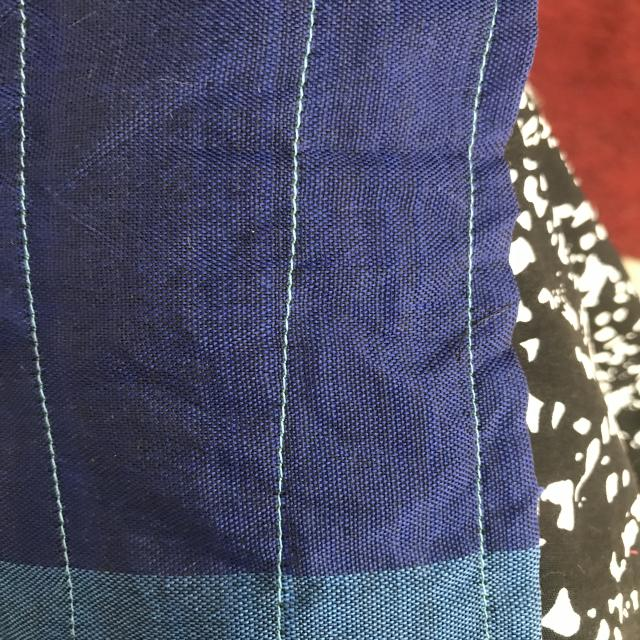good: (28, 379, 84, 553), (459, 308, 492, 471), (11, 78, 43, 246), (269, 383, 297, 532)
